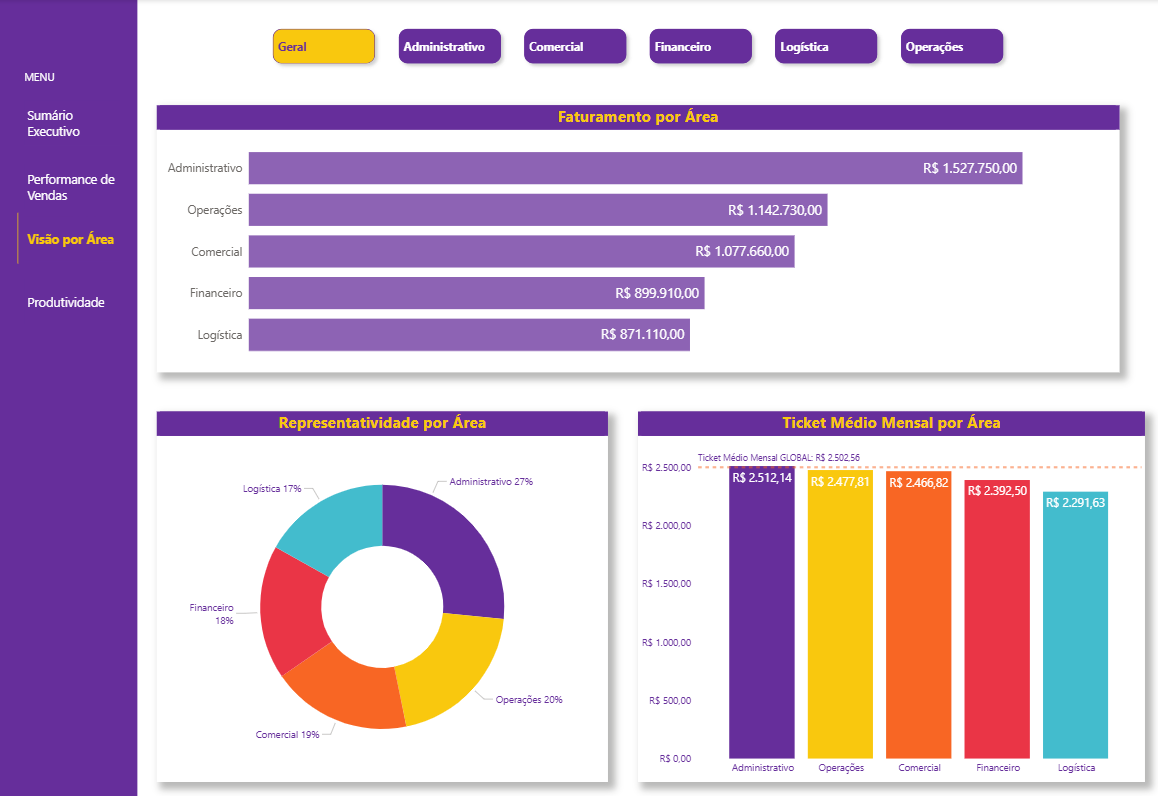

What the dashboard file says about the page in this screenshot:
{"tool":"powerbi","page":{"name":"Visão por Área","canvas":[1600,1100],"ordinal":2},"visuals":[{"type":"shape","box":[0,0,192,1100],"z":0},{"type":"shape","box":[36.7,84,100,44],"z":1000},{"type":"actionButton","box":[37,227,132,63],"z":2000},{"type":"actionButton","box":[37,299,132,62],"z":3000},{"type":"shape","box":[17,295,20,70],"z":4000},{"type":"advancedSlicerVisual","fields":{"Values":["Ranking_Top5_Vendas.Area"]},"box":[361.2,23.8,1040,82.5],"z":5000},{"type":"clusteredBarChart","title":"Faturamento  por Área","fields":{"Category":["CadastroFuncionarios.Area"],"Y":["Sum(Contratos Sumarizados.Valor Total Contratos Fechados )"]},"box":[218,146,1326,368],"z":6000},{"type":"donutChart","title":"Representatividade por Área","fields":{"Y":["Tab Medidas.Total Contratos Fechados"],"Category":["CadastroFuncionarios.Area"]},"box":[218.3,568.3,621.7,510],"z":7000},{"type":"clusteredColumnChart","title":"Ticket Médio Mensal por Área","fields":{"Category":["CadastroFuncionarios.Area"],"Y":["Tab Medidas.Ticket Médio Mensal"]},"box":[881.7,568.3,698.3,510],"z":8000},{"type":"actionButton","box":[37,386,132,62],"z":9000},{"type":"actionButton","box":[37,139,132,62],"z":10000}]}

Visuals, with their boxes on the page's 1600x1100 design canvas (x1, y1, x2, y2). These are canvas units, not pixel positions in the 1158x796 screenshot, which may show the page scaled, cropped or inside an application window:
shape: [x1=0, y1=0, x2=192, y2=1100]
shape: [x1=37, y1=84, x2=137, y2=128]
actionButton: [x1=37, y1=227, x2=169, y2=290]
actionButton: [x1=37, y1=299, x2=169, y2=361]
shape: [x1=17, y1=295, x2=37, y2=365]
advancedSlicerVisual - Ranking_Top5_Vendas.Area: [x1=361, y1=24, x2=1401, y2=106]
"Faturamento  por Área" clusteredBarChart: [x1=218, y1=146, x2=1544, y2=514]
"Representatividade por Área" donutChart: [x1=218, y1=568, x2=840, y2=1078]
"Ticket Médio Mensal por Área" clusteredColumnChart: [x1=882, y1=568, x2=1580, y2=1078]
actionButton: [x1=37, y1=386, x2=169, y2=448]
actionButton: [x1=37, y1=139, x2=169, y2=201]
